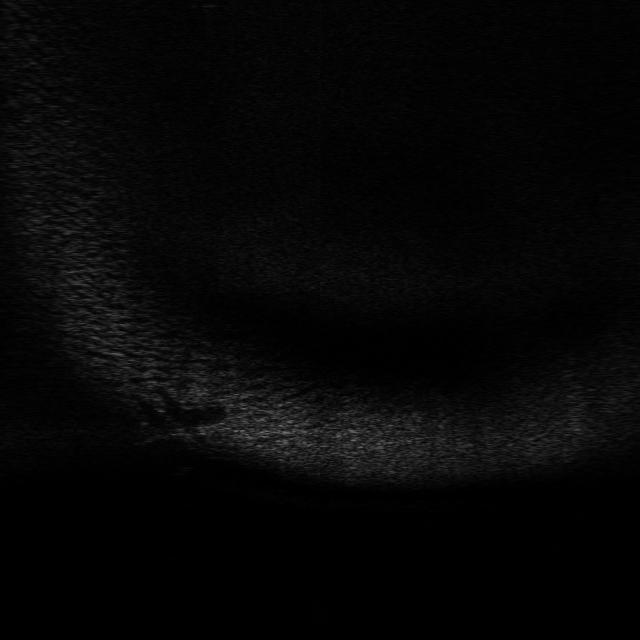plane: (136, 419, 218, 451)
